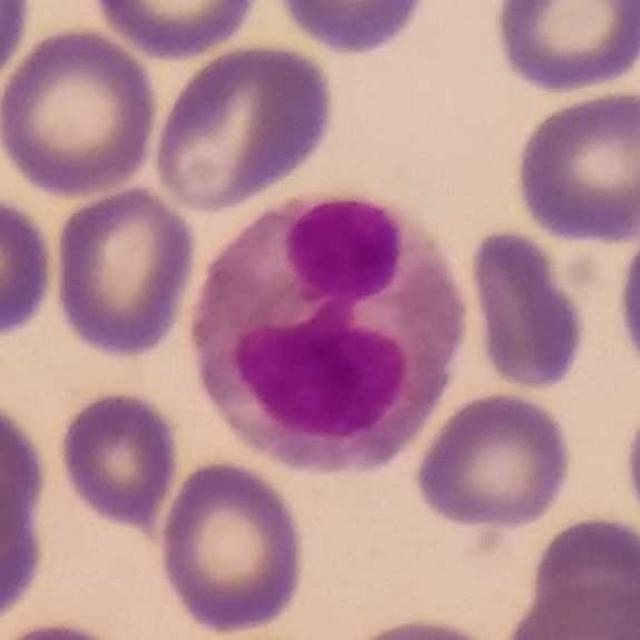eosino: (186, 191, 471, 477)
